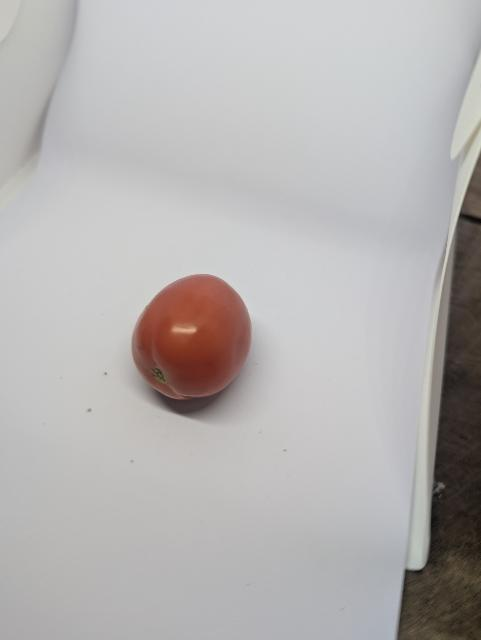red: (131, 271, 256, 402)
